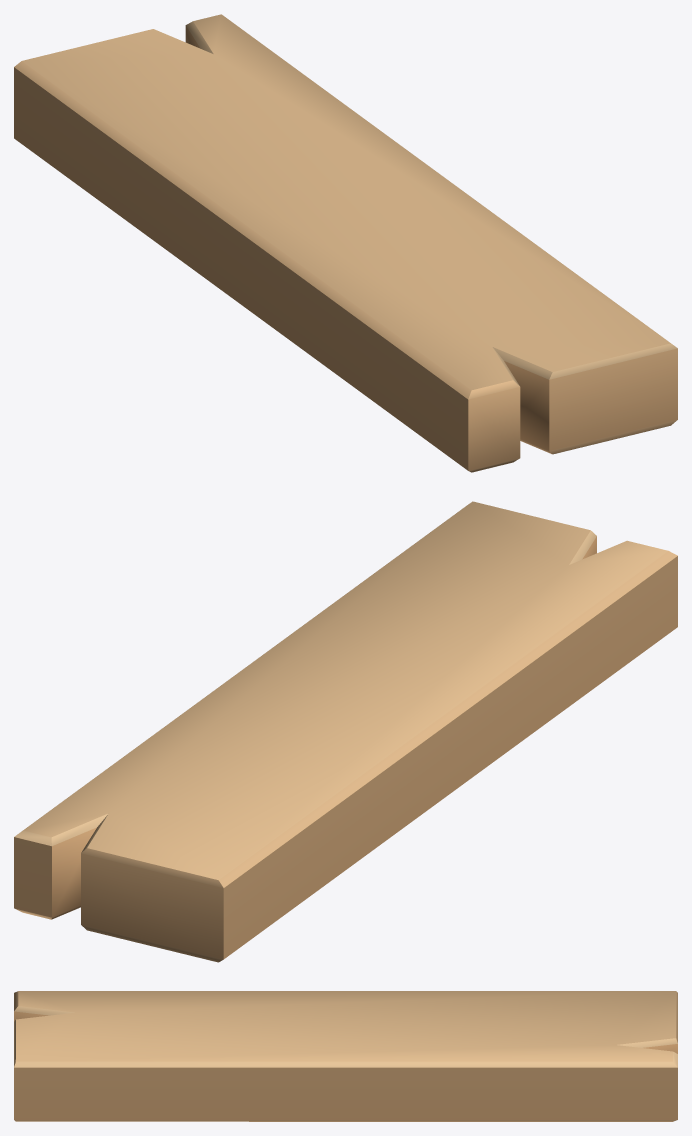
Rendered from Wood_Plank_C.glb.
3 renders of one model, top to bottom at view 1: azimuth 30°, elevation 25°; view 2: azimuth 150°, elevation 25°; view 3: azimuth 270°, elevation 25°, orthographic. The views are drawn at different scales.
Parts seen in each view (by area): view 1: Wood_Plank_C; view 2: Wood_Plank_C; view 3: Wood_Plank_C.
Boxes of the visible parts, x1,y1,x2,y2 form: Wood_Plank_C: (14,14,677,472); Wood_Plank_C: (14,501,677,962); Wood_Plank_C: (14,991,677,1121).
Size of the model in its own units: 0.4 by 0.15 by 1.5.
Materials: 1 (1 with a texture image).
